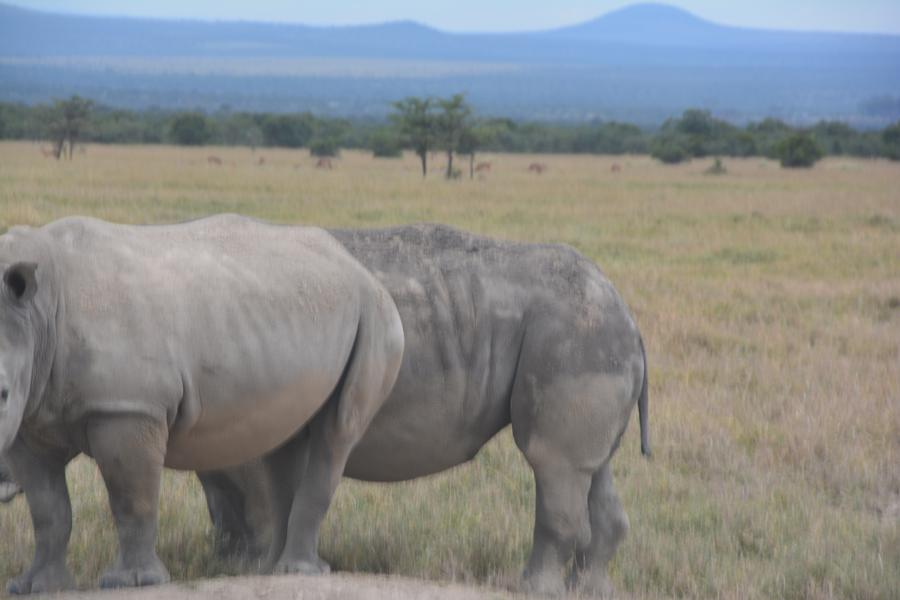rhino: (5, 212, 370, 524), (385, 235, 645, 483)
